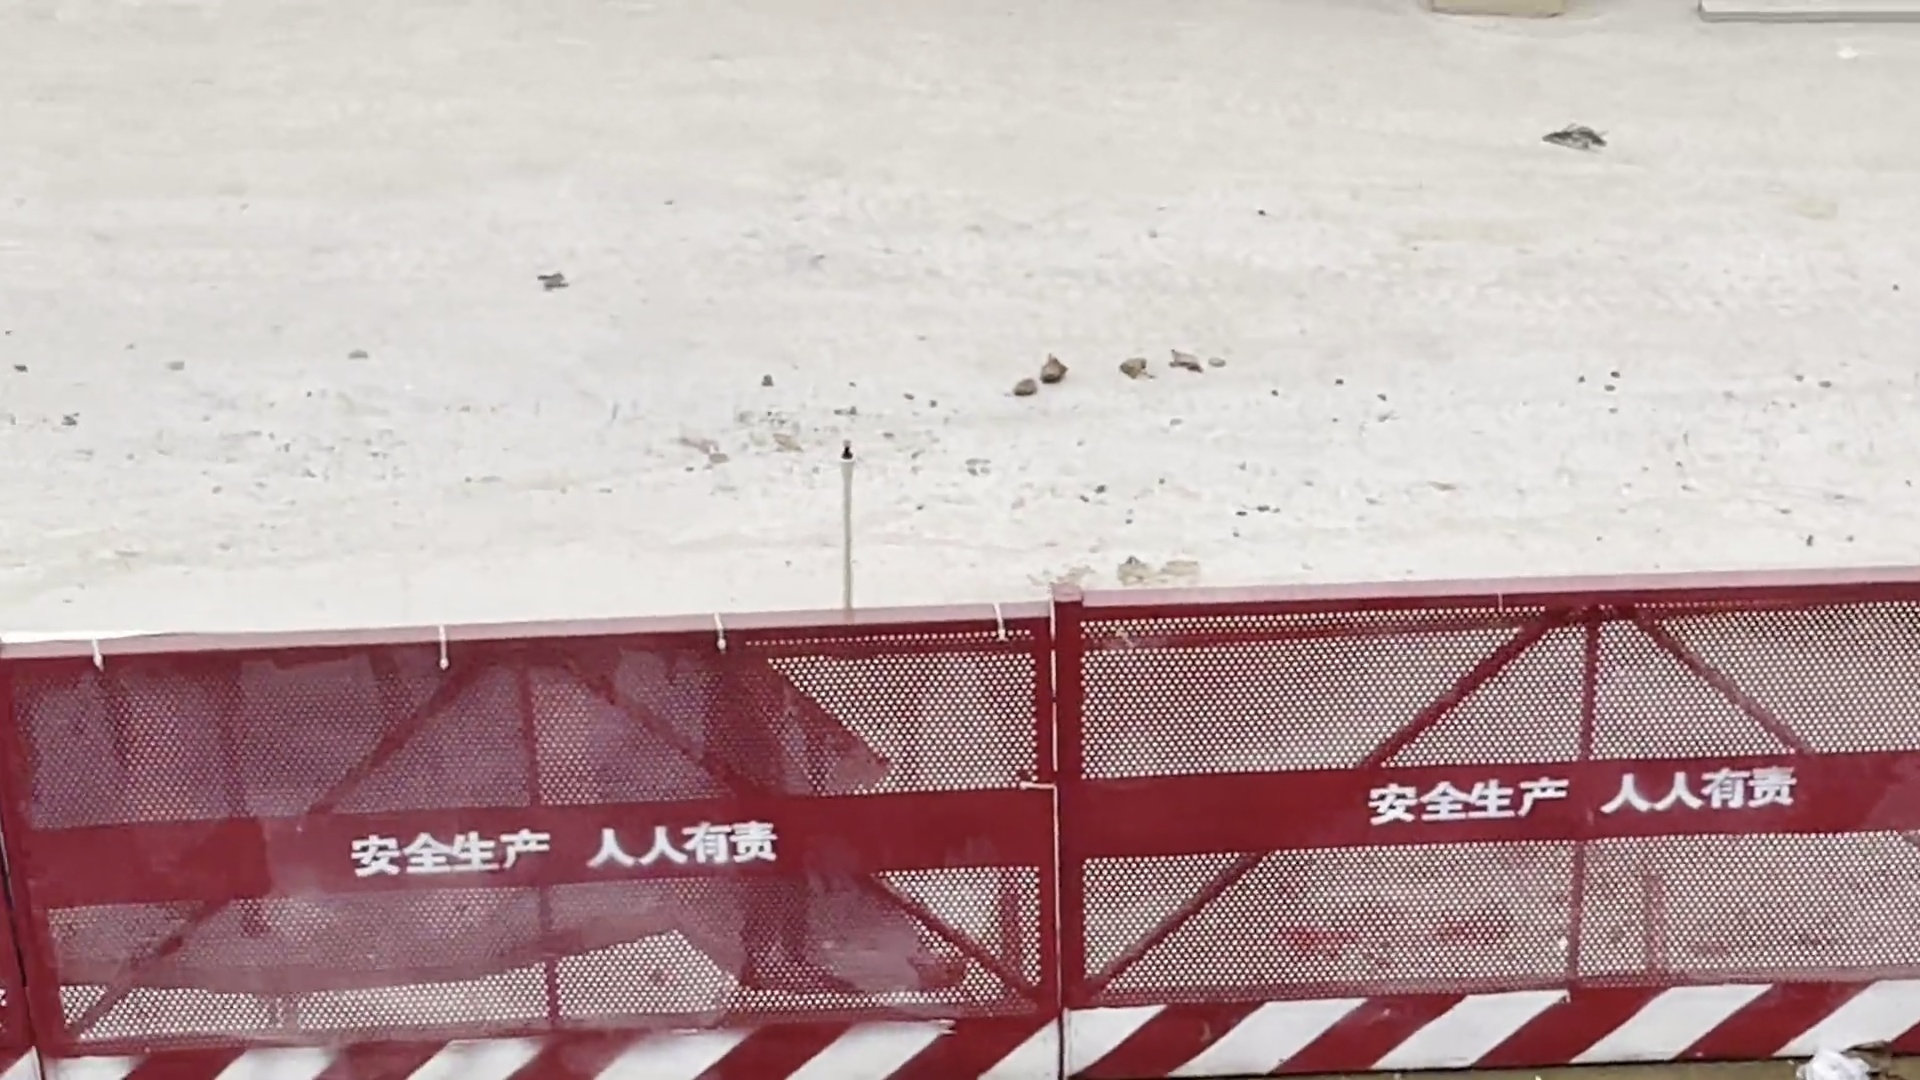fence: (1, 527, 1888, 1067)
